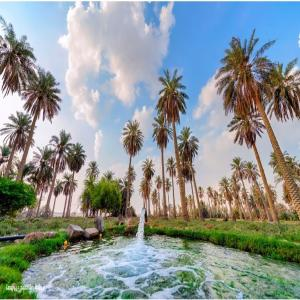palm tree: (215, 28, 300, 221), (227, 109, 278, 222), (155, 66, 190, 222), (15, 66, 62, 181), (176, 126, 204, 221), (43, 128, 72, 218), (121, 118, 144, 218), (0, 110, 32, 179), (152, 114, 173, 218), (27, 145, 53, 217), (65, 142, 86, 218), (141, 157, 155, 217), (86, 160, 100, 216), (61, 171, 77, 217), (218, 175, 234, 220), (165, 155, 176, 218), (50, 178, 62, 217), (154, 174, 162, 217)
